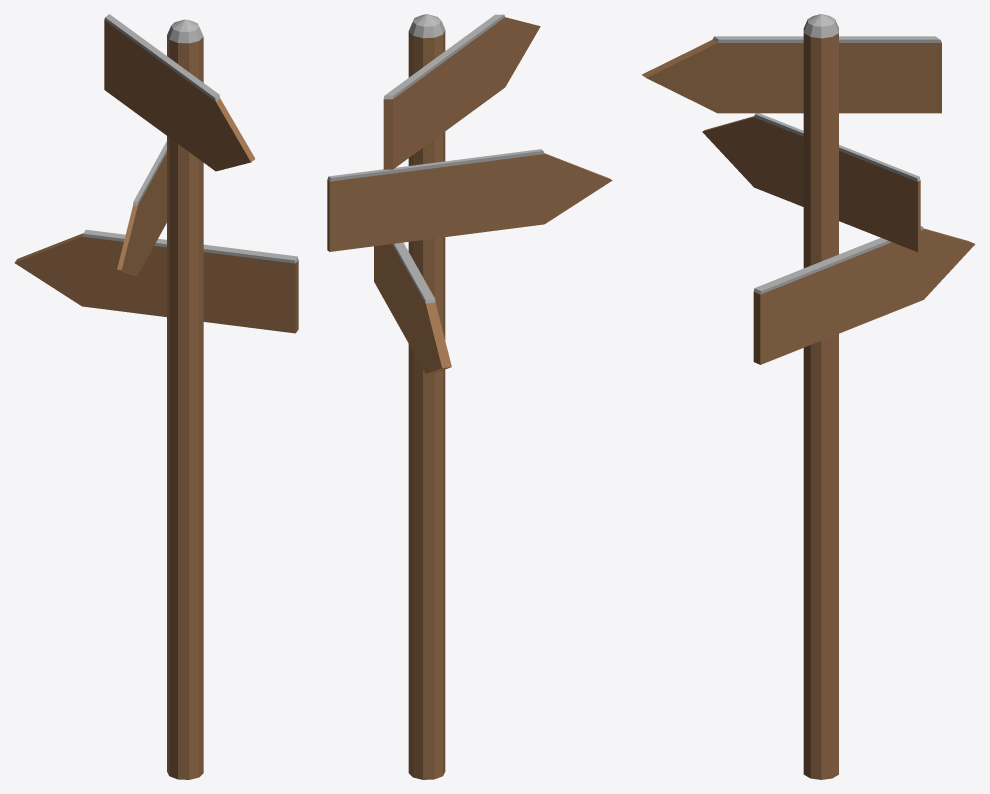
File: Sighnpost_1 winter.fbx
3 views of the same model, side by side, from view 1: azimuth 30°, elevation 25°; view 2: azimuth 150°, elevation 25°; view 3: azimuth 270°, elevation 25° (orthographic).
Visible parts, largest first — view 1: SighnpostWinter_mesh; view 2: SighnpostWinter_mesh; view 3: SighnpostWinter_mesh.
Part boxes in pixels (x1,y1,x2,y2): SighnpostWinter_mesh: (14, 14, 298, 779); SighnpostWinter_mesh: (327, 14, 612, 779); SighnpostWinter_mesh: (642, 14, 975, 779).
Bounding box in the file's own units: 102 × 349 × 139.
